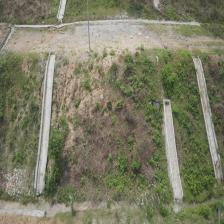rock_toe: (0, 170, 31, 197)
slope_drain: (192, 53, 224, 180), (33, 52, 56, 195), (163, 99, 184, 204)
